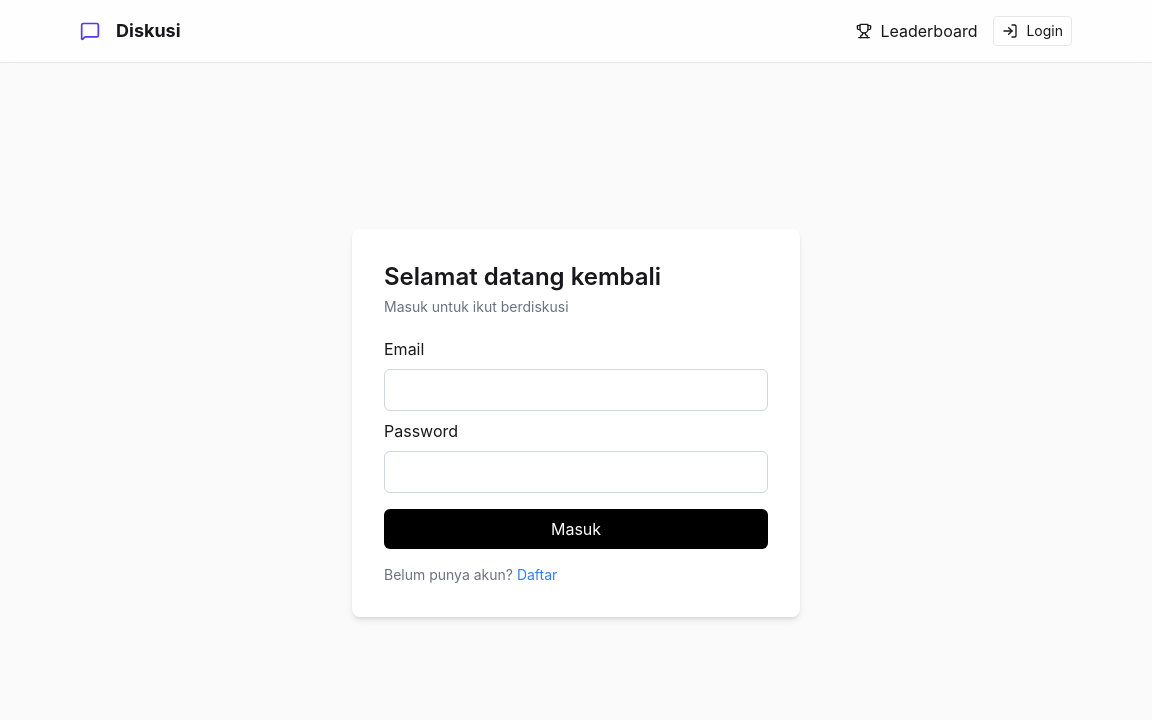
Login spec › should display error toast if email is empty
Step 1. Click the submit button → x=576, y=529, box [384,509,768,549]
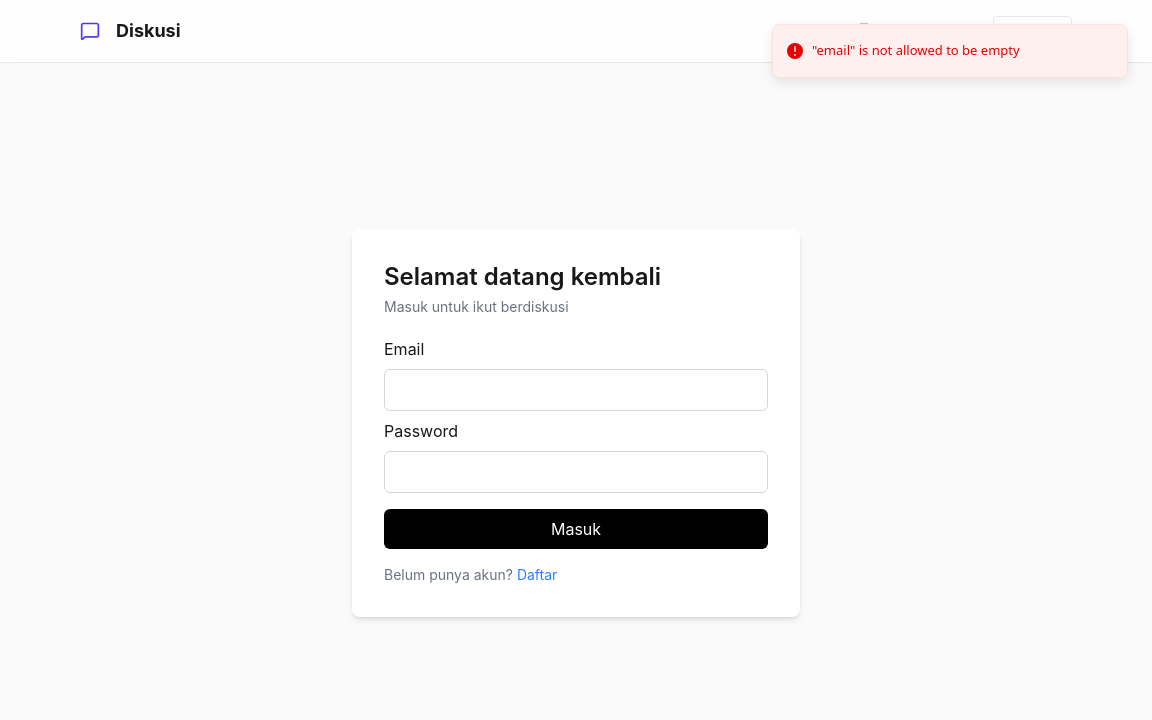
Check: the list item "\"email\" is not allowed to be empty" is shown, box [772,24,1128,78]
Check: the text "\"email\" is not allowed to be empty" is shown, box [812,41,1020,60]
